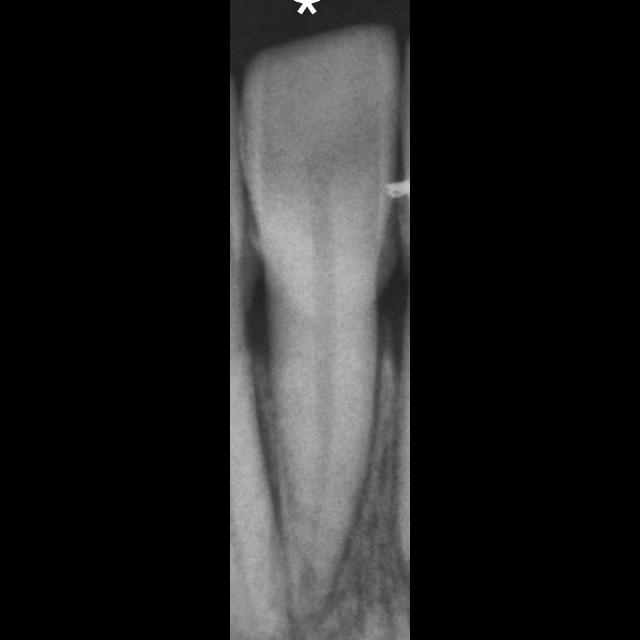tooth: (237, 23, 403, 618)
